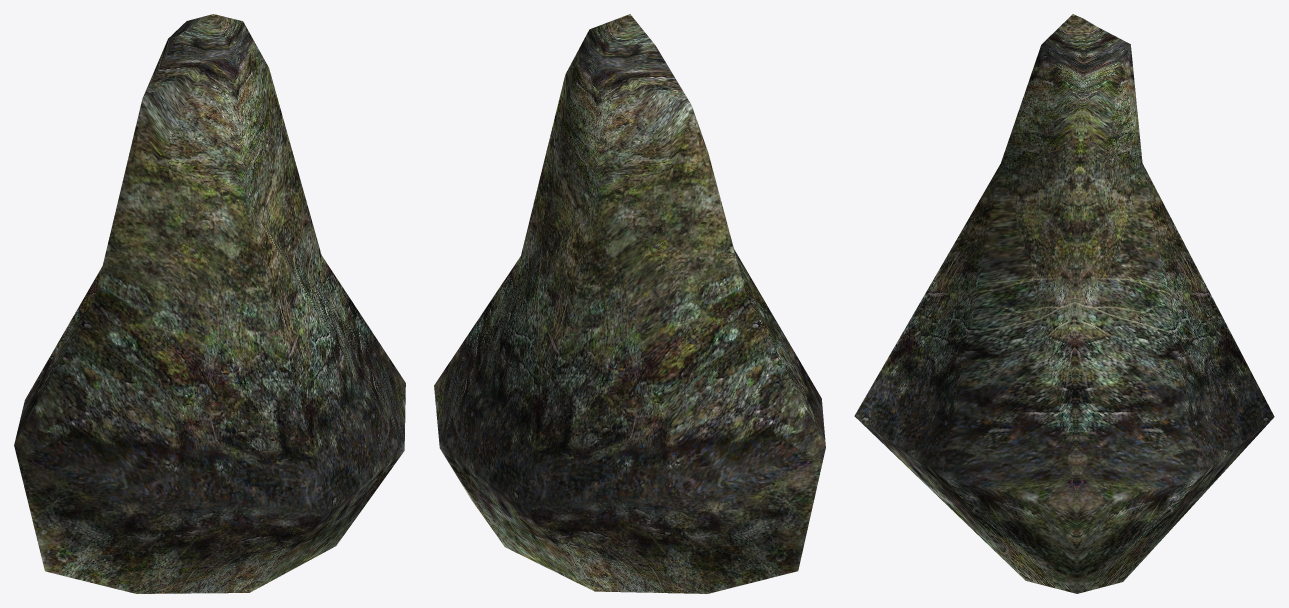
File: thm_all_cave_stalagmite_damprock_c3_l1.fbx
3 renders of one model, left to right at view 1: azimuth 30°, elevation 25°; view 2: azimuth 150°, elevation 25°; view 3: azimuth 270°, elevation 25°, orthographic. The views are drawn at different scales.
Visible parts, largest first — view 1: mesh_node; view 2: mesh_node; view 3: mesh_node.
Boxes of the visible parts, <box> form: mesh_node: <box>14,14,405,593</box>; mesh_node: <box>434,14,825,593</box>; mesh_node: <box>854,14,1274,593</box>.
Size of the model in its own units: 4.54 by 6.26 by 4.36.
